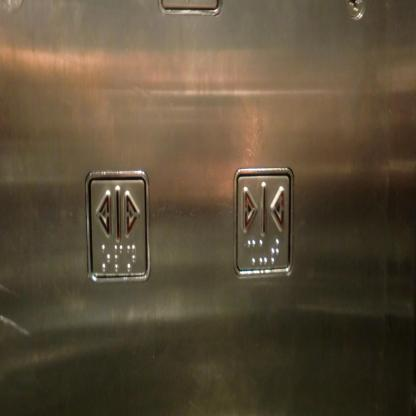close: (231, 164, 296, 283)
open: (83, 166, 152, 286)
